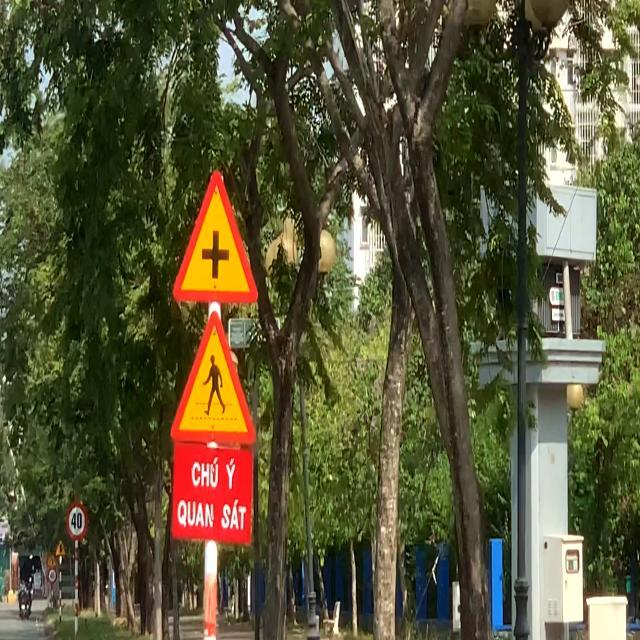P-127: (64, 500, 90, 540)
W-205a: (172, 165, 258, 301)
W-224: (169, 309, 257, 444)
